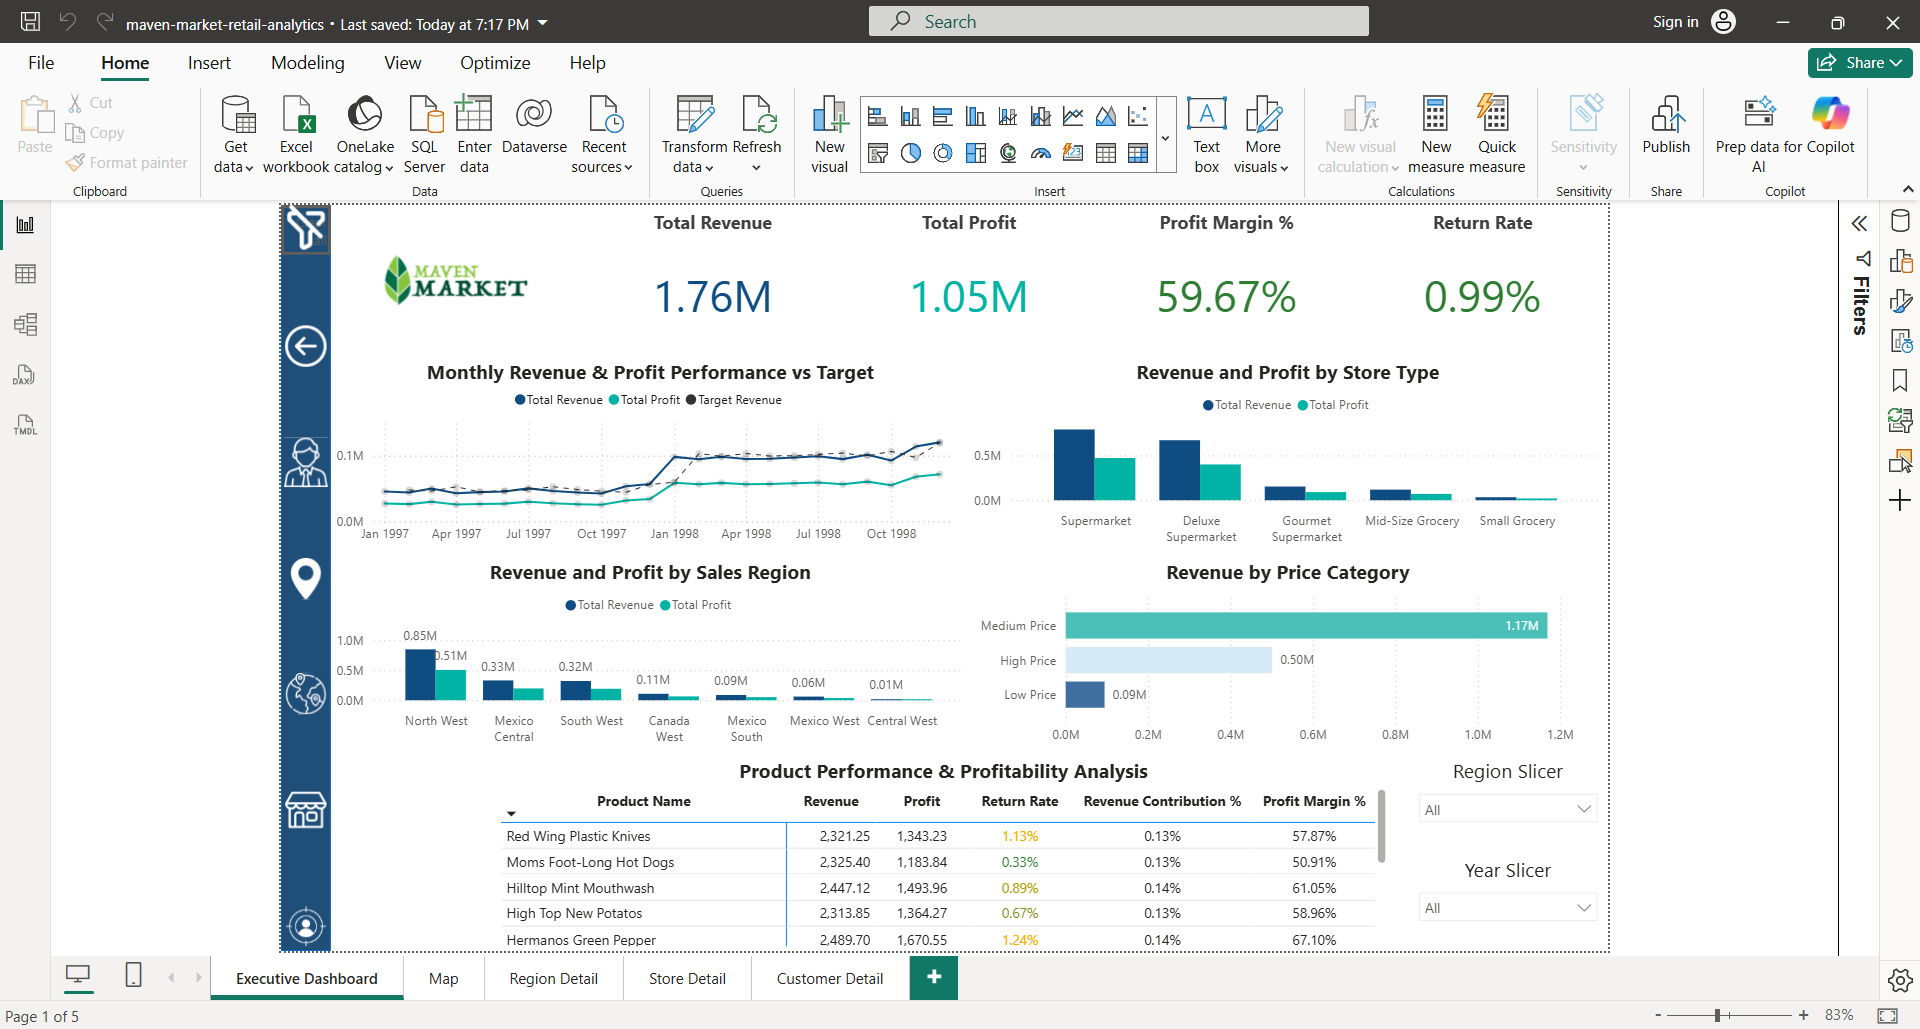

The page's visual inventory and layout, read from the dashboard file:
{"tool":"powerbi","page":{"name":"Executive Dashboard","canvas":[1280,720],"ordinal":0},"visuals":[{"type":"lineChart","title":"Monthly Revenue & Profit Performance vs Target","fields":{"Category":["Calendar.Start of Month"],"Y":["Measure Table.Base | Total Revenue","Measure Table.Base | Total Profit","Measure Table.Target | Revenue"]},"box":[48,144,616.6,192],"z":1000},{"type":"actionButton","box":[0,671.7,48.3,48.3],"z":1000,"group":"g1"},{"type":"actionButton","box":[0,224.2,48,48],"z":2000,"group":"g1"},{"type":"actionButton","box":[0,336.2,48,48],"z":3000,"group":"g1"},{"type":"actionButton","box":[0,448.1,48,48],"z":4000,"group":"g1"},{"type":"actionButton","box":[0,560.1,48,48],"z":5000,"group":"g1"},{"type":"actionButton","box":[0,112.3,48,48],"z":6000,"group":"g1"},{"type":"actionButton","box":[0,0,48.3,48.3],"z":7000,"group":"g1"},{"type":"card","title":"Total Profit","fields":{"Values":["Measure Table.Base | Total Profit"]},"box":[544.3,0,240,144.3],"z":9000},{"type":"card","title":"Profit Margin %","fields":{"Values":["Measure Table.KPI | Profit Margin %"]},"box":[792.1,0,240,144.3],"z":10000},{"type":"card","title":"Return Rate","fields":{"Values":["Measure Table.KPI | Return Rate"]},"box":[1040,0,240,144.3],"z":11000},{"type":"clusteredColumnChart","title":"Revenue and Profit by Sales Region","fields":{"Category":["Regions.sales_region"],"Y":["Measure Table.Base | Total Revenue","Measure Table.Base | Total Profit"]},"box":[48,336,616.6,192],"z":12000},{"type":"clusteredBarChart","title":"Revenue by Price Category","fields":{"Category":["Products.Price Category"],"Y":["Measure Table.Base | Total Revenue"]},"box":[663.4,336,616.6,192],"z":13000},{"type":"pivotTable","title":"Product Performance & Profitability Analysis","fields":{"Rows":["Products.product_name"],"Values":["Measure Table.Base | Total Revenue","Measure Table.Base | Total Profit","Measure Table.KPI | Return Rate","Measure Table.Ratio | Revenue Contribution %","Measure Table.KPI | Profit Margin %"]},"box":[208,528,864,192],"z":14000},{"type":"slicer","title":"Year Slicer","fields":{"Values":["Calendar.Year"]},"box":[1088,624,192,96],"z":15000},{"type":"slicer","title":"Region Slicer","fields":{"Values":["Regions.sales_region"]},"box":[1088,528,192,96],"z":16000},{"type":"card","title":"Total Revenue","fields":{"Values":["Measure Table.Base | Total Revenue"]},"box":[296.4,0,240,144.3],"z":17000},{"type":"clusteredColumnChart","title":"Revenue and Profit by Store Type","fields":{"Category":["Stores.store_type"],"Y":["Measure Table.Base | Total Revenue","Measure Table.Base | Total Profit"]},"box":[663.4,144,616.6,192],"z":18000},{"type":"shape","box":[0,0,48,720],"z":19000},{"type":"group","id":"g1","title":"Group 1","box":[0,0,48.6,720],"z":20000},{"type":"actionButton","box":[48.6,0,240,144.3],"z":21000}]}

Visuals, with their boxes on the page's 1280x720 design canvas (x1, y1, x2, y2). These are canvas units, not pixel positions in the 1920x1029 screenshot, which may show the page scaled, cropped or inside an application window:
"Monthly Revenue & Profit Performance vs Target" lineChart: (48,144,665,336)
actionButton: (0,672,48,720)
actionButton: (0,224,48,272)
actionButton: (0,336,48,384)
actionButton: (0,448,48,496)
actionButton: (0,560,48,608)
actionButton: (0,112,48,160)
actionButton: (0,0,48,48)
"Total Profit" card: (544,0,784,144)
"Profit Margin %" card: (792,0,1032,144)
"Return Rate" card: (1040,0,1280,144)
"Revenue and Profit by Sales Region" clusteredColumnChart: (48,336,665,528)
"Revenue by Price Category" clusteredBarChart: (663,336,1280,528)
"Product Performance & Profitability Analysis" pivotTable: (208,528,1072,720)
"Year Slicer" slicer: (1088,624,1280,720)
"Region Slicer" slicer: (1088,528,1280,624)
"Total Revenue" card: (296,0,536,144)
"Revenue and Profit by Store Type" clusteredColumnChart: (663,144,1280,336)
shape: (0,0,48,720)
"Group 1" group: (0,0,49,720)
actionButton: (49,0,289,144)
